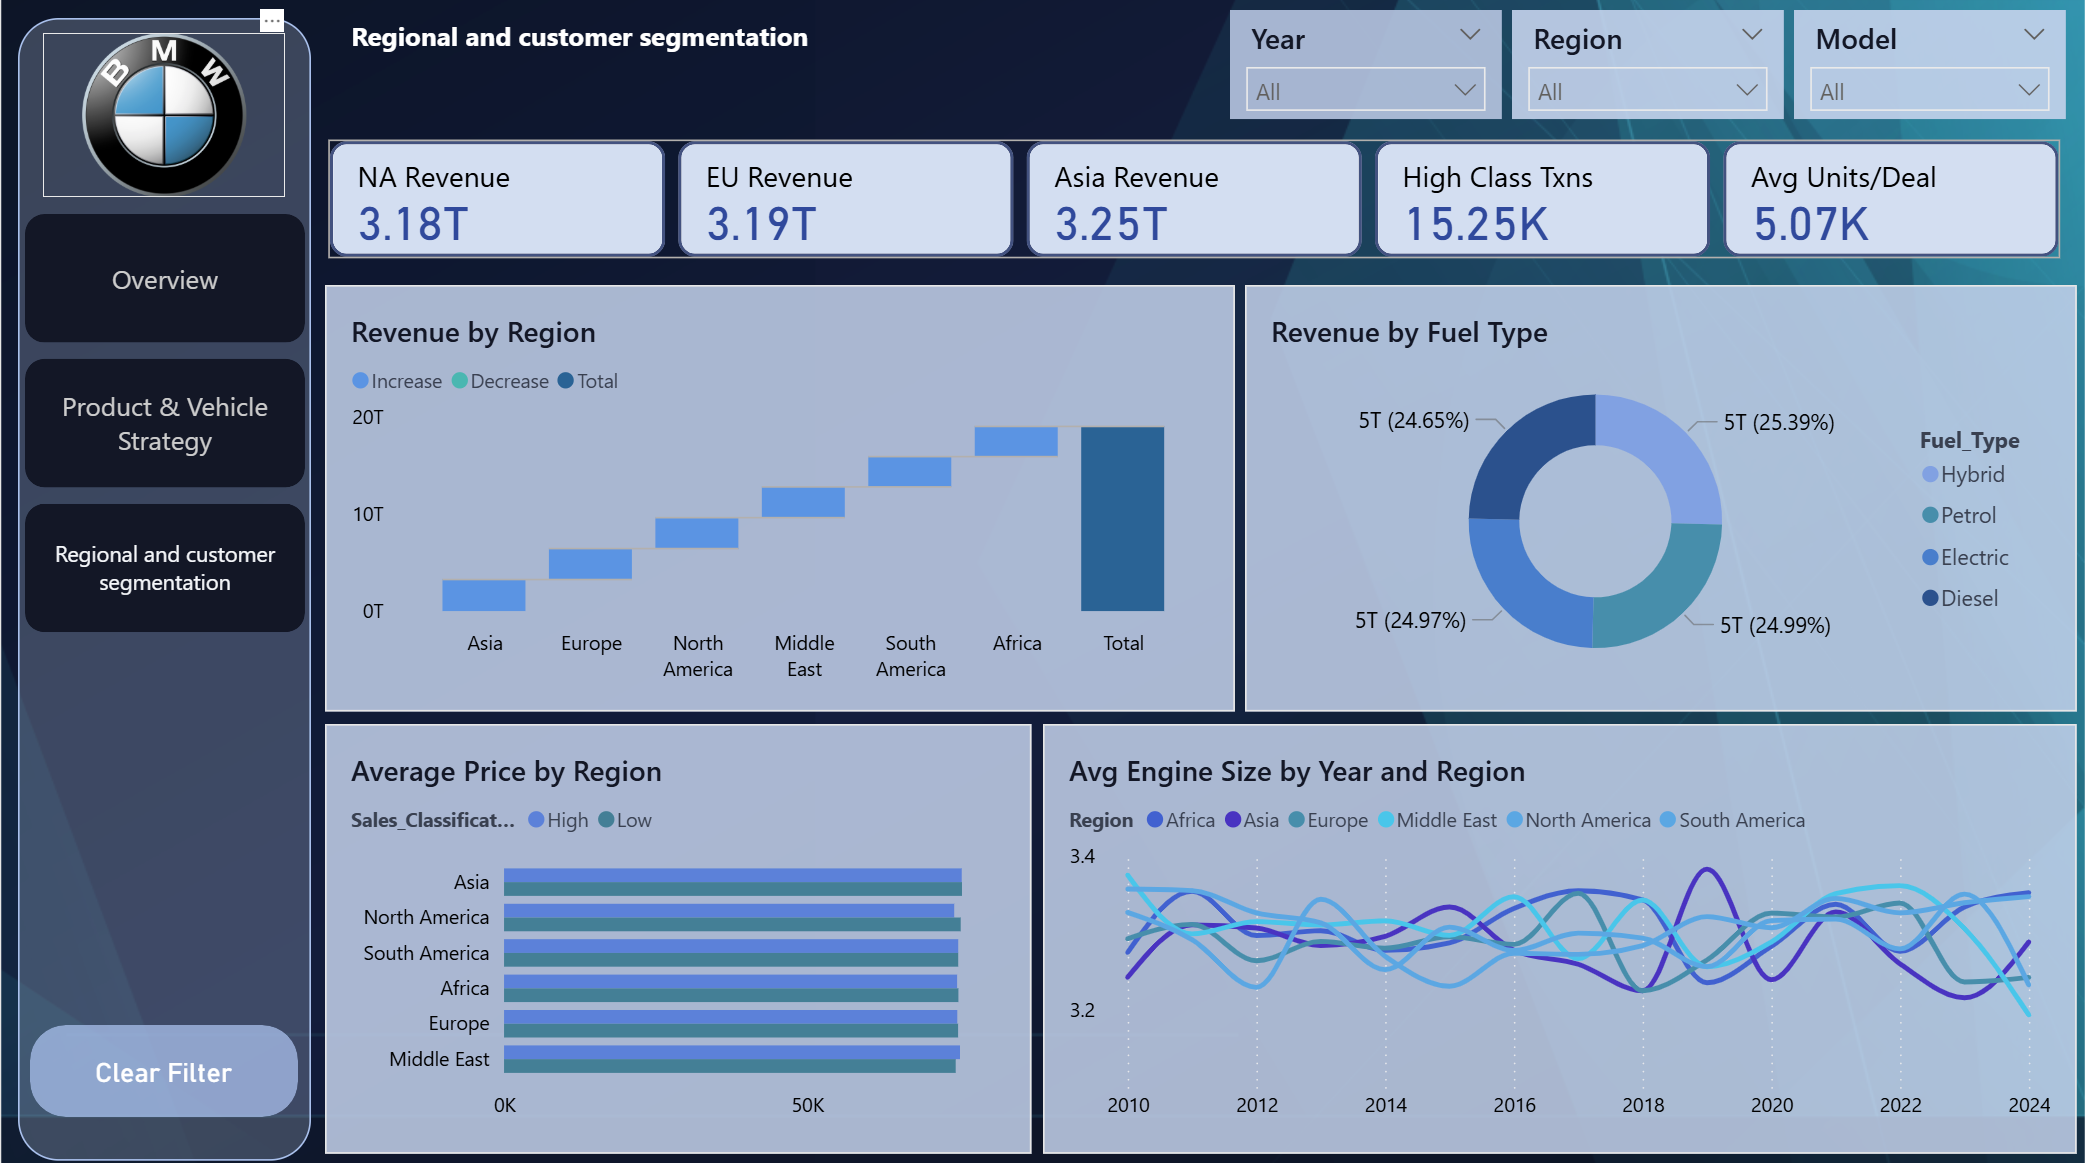

Layout of this report page (visuals, bound fields, positions):
{"tool":"powerbi","page":{"name":"Regional and customer segmentation","canvas":[1280,720],"ordinal":2},"visuals":[{"type":"slicer","fields":{"Values":["BMW Sales.Year"]},"box":[755,9.2,167.2,67],"z":0,"group":"g2"},{"type":"shape","box":[10.4,14.1,180,701.6],"z":0},{"type":"textbox","box":[210.1,9.2,299.2,37.5],"z":1000},{"type":"slicer","fields":{"Values":["BMW Sales.Region"]},"box":[928,9.3,167.2,67],"z":1000,"group":"g2"},{"type":"slicer","fields":{"Values":["BMW Sales.Model"]},"box":[1101.5,9.2,167.2,67],"z":2000,"group":"g2"},{"type":"waterfallChart","title":"Revenue by Region","fields":{"Category":["BMW Sales.Region"],"Y":["Key Measures.Total Revenue"]},"box":[199,178.2,559,262.3],"z":2000},{"type":"donutChart","title":"Revenue by Fuel Type","fields":{"Category":["BMW Sales.Fuel_Type"],"Y":["Key Measures.Total Revenue"]},"box":[764.2,178.2,510.5,262.3],"z":3000},{"type":"clusteredBarChart","title":"Average Price by Region","fields":{"Y":["Key Measures.Avg Selling Price"],"Category":["BMW Sales.Region"],"Series":["BMW Sales.Sales_Classification"]},"box":[199,447.8,433.7,263.5],"z":4000},{"type":"lineChart","fields":{"Category":["BMW Sales.Year"],"Y":["Key Measures.Avg Engine Size"],"Series":["BMW Sales.Region"]},"box":[640.1,447.8,634.6,263.5],"z":5000},{"type":"cardVisual","fields":{"Data":["Key Measures.NA Revenue","Key Measures.EU Revenue","Key Measures.Asia Revenue","Key Measures.High Class Txns","Key Measures.Avg Units/Deal"]},"box":[199,84.8,1071.4,81.7],"z":6000},{"type":"group","id":"g1","title":"Group 1","box":[755,9.2,514.2,67],"z":7000},{"type":"image","box":[25.9,23.2,148.4,101],"z":8000},{"type":"pageNavigator","box":[14.7,134.5,172,259.9],"z":9000},{"type":"actionButton","box":[17.8,632.8,164.6,56.5],"z":10000},{"type":"group","id":"g2","title":"Group 2","box":[755,9.2,513.6,67.1],"z":14006,"group":"g1"}]}

Visuals, with their boxes on the page's 1280x720 design canvas (x1, y1, x2, y2). These are canvas units, not pixel positions in the 2085x1163 screenshot, which may show the page scaled, cropped or inside an application window:
slicer - BMW Sales.Year: 755, 9, 922, 76
shape: 10, 14, 190, 716
textbox: 210, 9, 509, 47
slicer - BMW Sales.Region: 928, 9, 1095, 76
slicer - BMW Sales.Model: 1102, 9, 1269, 76
"Revenue by Region" waterfallChart: 199, 178, 758, 440
"Revenue by Fuel Type" donutChart: 764, 178, 1275, 440
"Average Price by Region" clusteredBarChart: 199, 448, 633, 711
lineChart - BMW Sales.Year x Key Measures.Avg Engine Size: 640, 448, 1275, 711
cardVisual - Key Measures.NA Revenue x Key Measures.EU Revenue: 199, 85, 1270, 166
"Group 1" group: 755, 9, 1269, 76
image: 26, 23, 174, 124
pageNavigator: 15, 134, 187, 394
actionButton: 18, 633, 182, 689
"Group 2" group: 755, 9, 1269, 76
